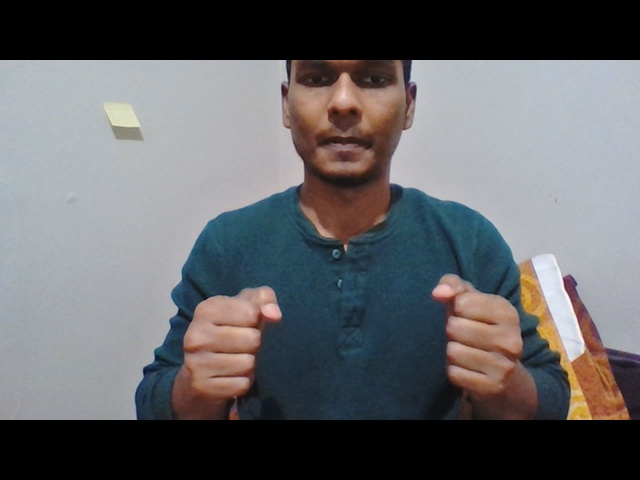ItisCool: (178, 273, 528, 412)
